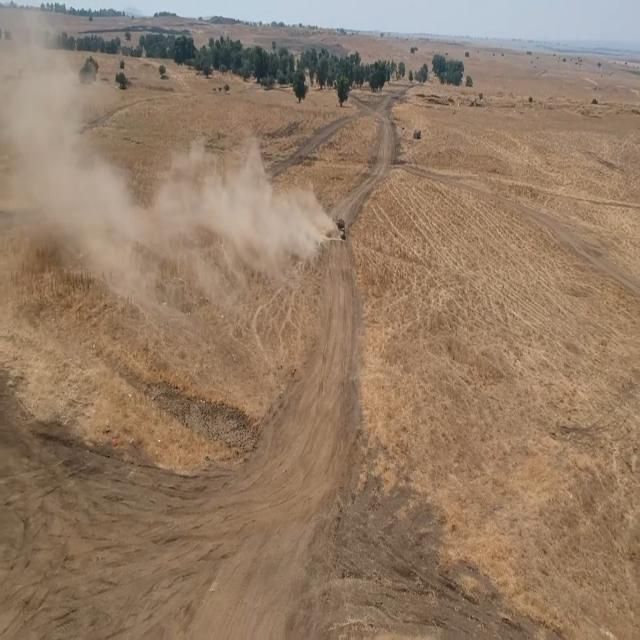tank: (331, 214, 347, 242)
